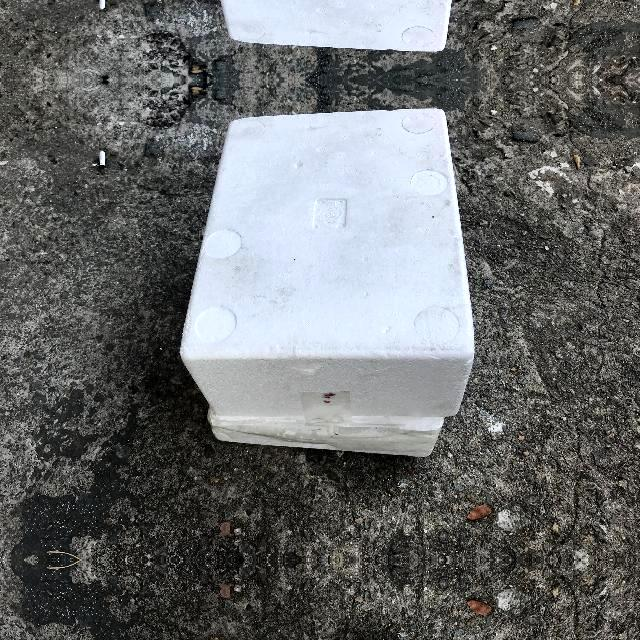Styrofoam: (179, 108, 473, 460), (180, 108, 475, 457)
